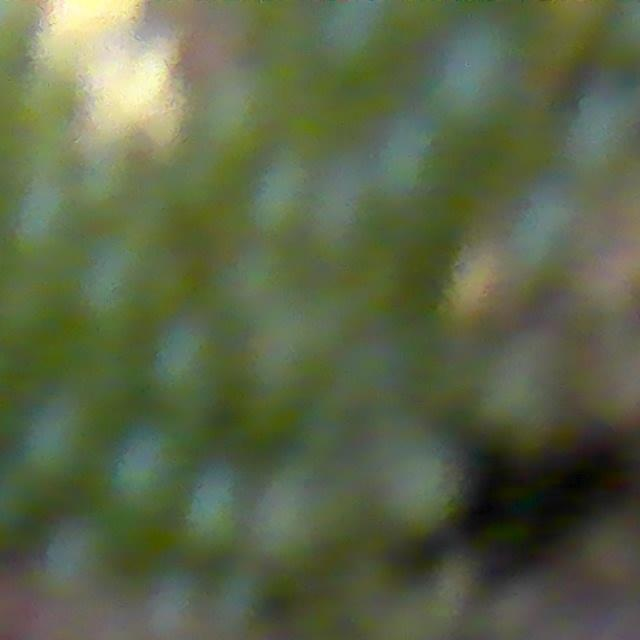SeaGrape: (426, 14, 533, 138), (141, 315, 234, 427), (368, 432, 467, 535), (15, 394, 103, 489), (96, 435, 193, 519), (308, 0, 406, 75), (38, 513, 120, 600), (239, 161, 318, 241), (174, 474, 247, 558), (203, 564, 271, 634)
